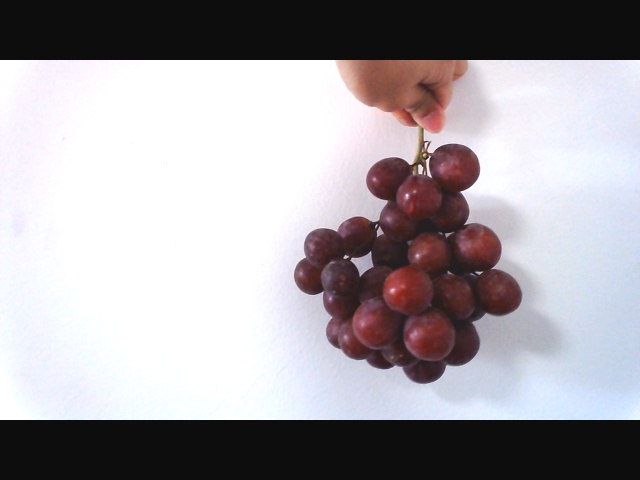grape: (279, 135, 530, 377)
